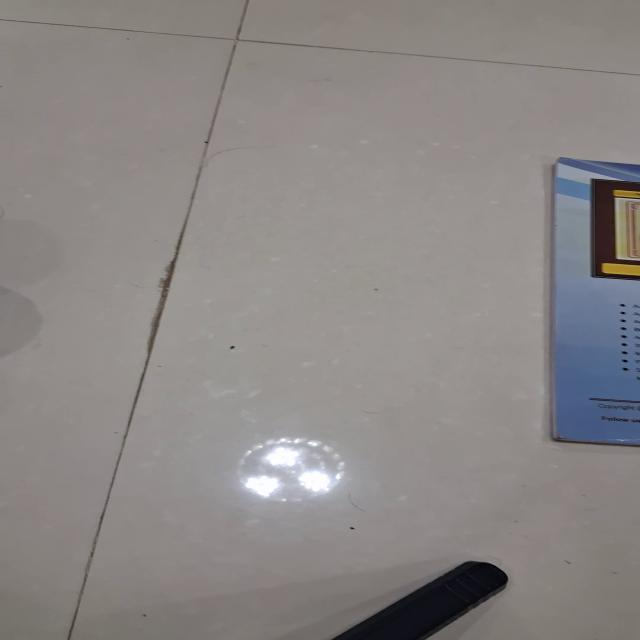paper: (548, 156, 639, 446)
